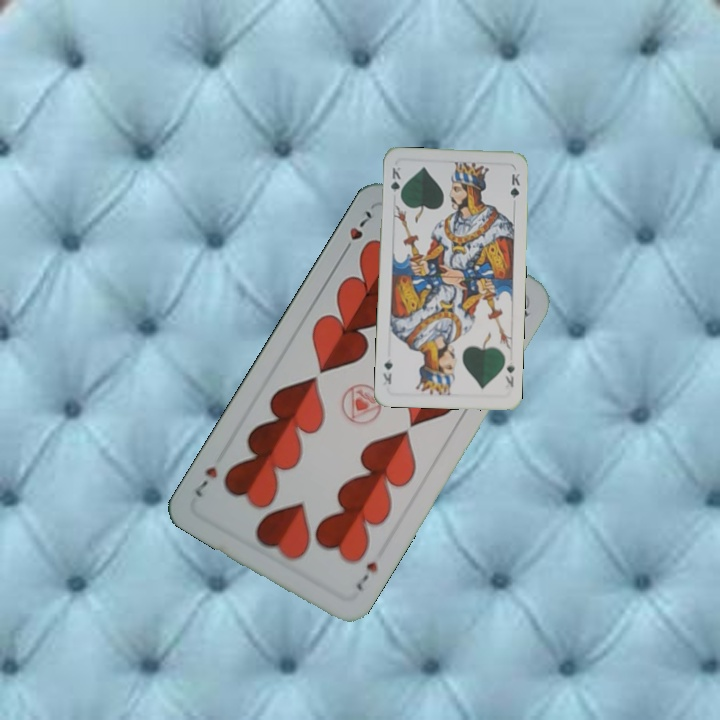GK: (387, 163, 403, 202), (501, 361, 517, 390)
H7: (338, 206, 375, 258), (351, 557, 381, 593)
